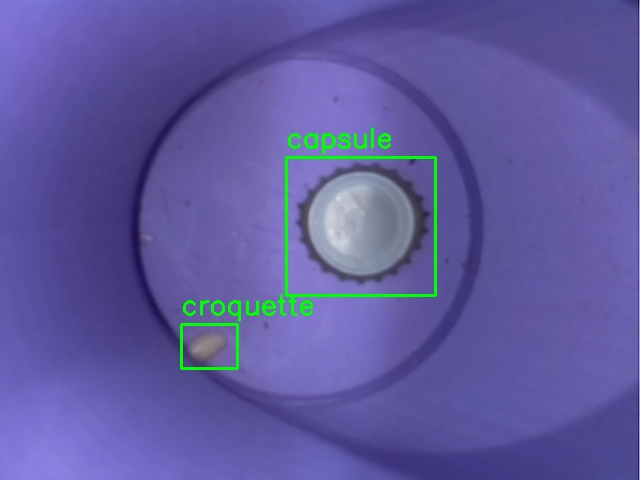capsule: (286, 157, 435, 295)
croquette: (181, 324, 237, 368)
